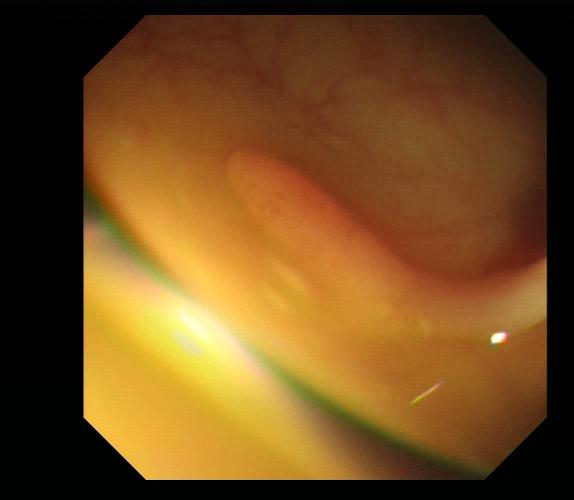polyp: (228, 144, 409, 325)
